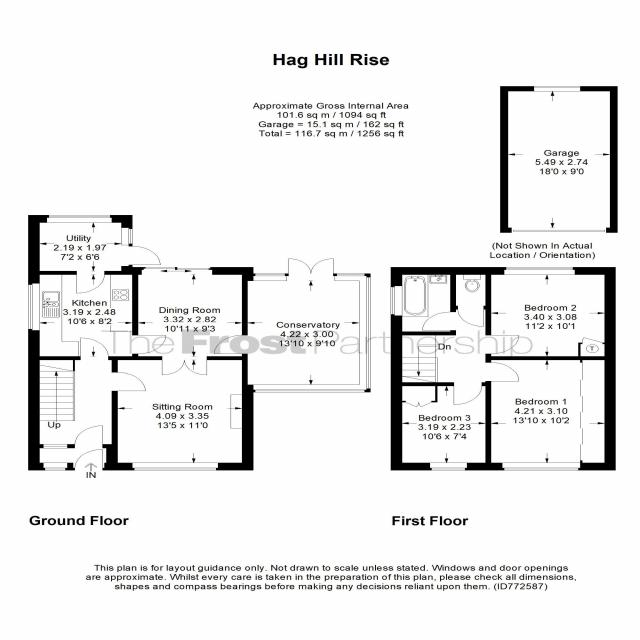DOOR: (111, 370, 149, 394), (450, 382, 486, 407), (418, 309, 455, 333), (72, 423, 105, 449), (132, 333, 169, 356), (78, 335, 111, 360), (74, 271, 108, 295), (485, 361, 521, 383), (456, 305, 486, 330), (486, 333, 520, 355), (128, 245, 163, 266), (74, 448, 105, 471)
DOUBLE DOOR: (157, 356, 213, 379), (286, 256, 335, 281)
ROOM: (103, 356, 255, 471), (486, 358, 616, 470), (485, 266, 616, 360), (392, 382, 491, 471)
SLIDING DOOR: (142, 266, 213, 272)
WINDOW: (131, 461, 221, 472), (499, 461, 582, 472), (25, 282, 42, 332), (501, 265, 577, 276), (43, 213, 114, 224), (388, 284, 405, 317), (427, 461, 469, 472), (253, 271, 288, 282), (118, 225, 135, 245), (42, 461, 70, 472), (41, 443, 69, 450), (334, 272, 366, 277)
